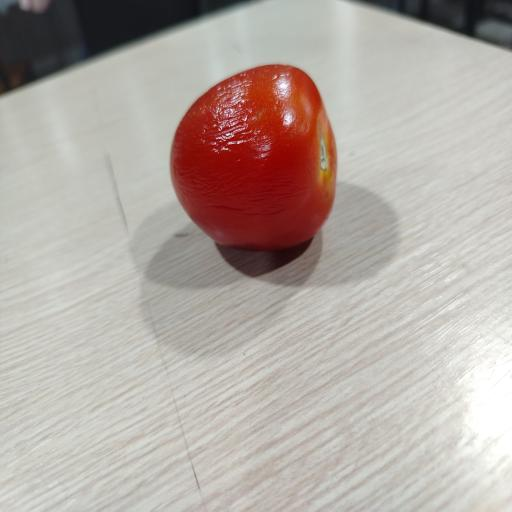spoiled: (171, 65, 337, 250), (284, 111, 293, 125)
